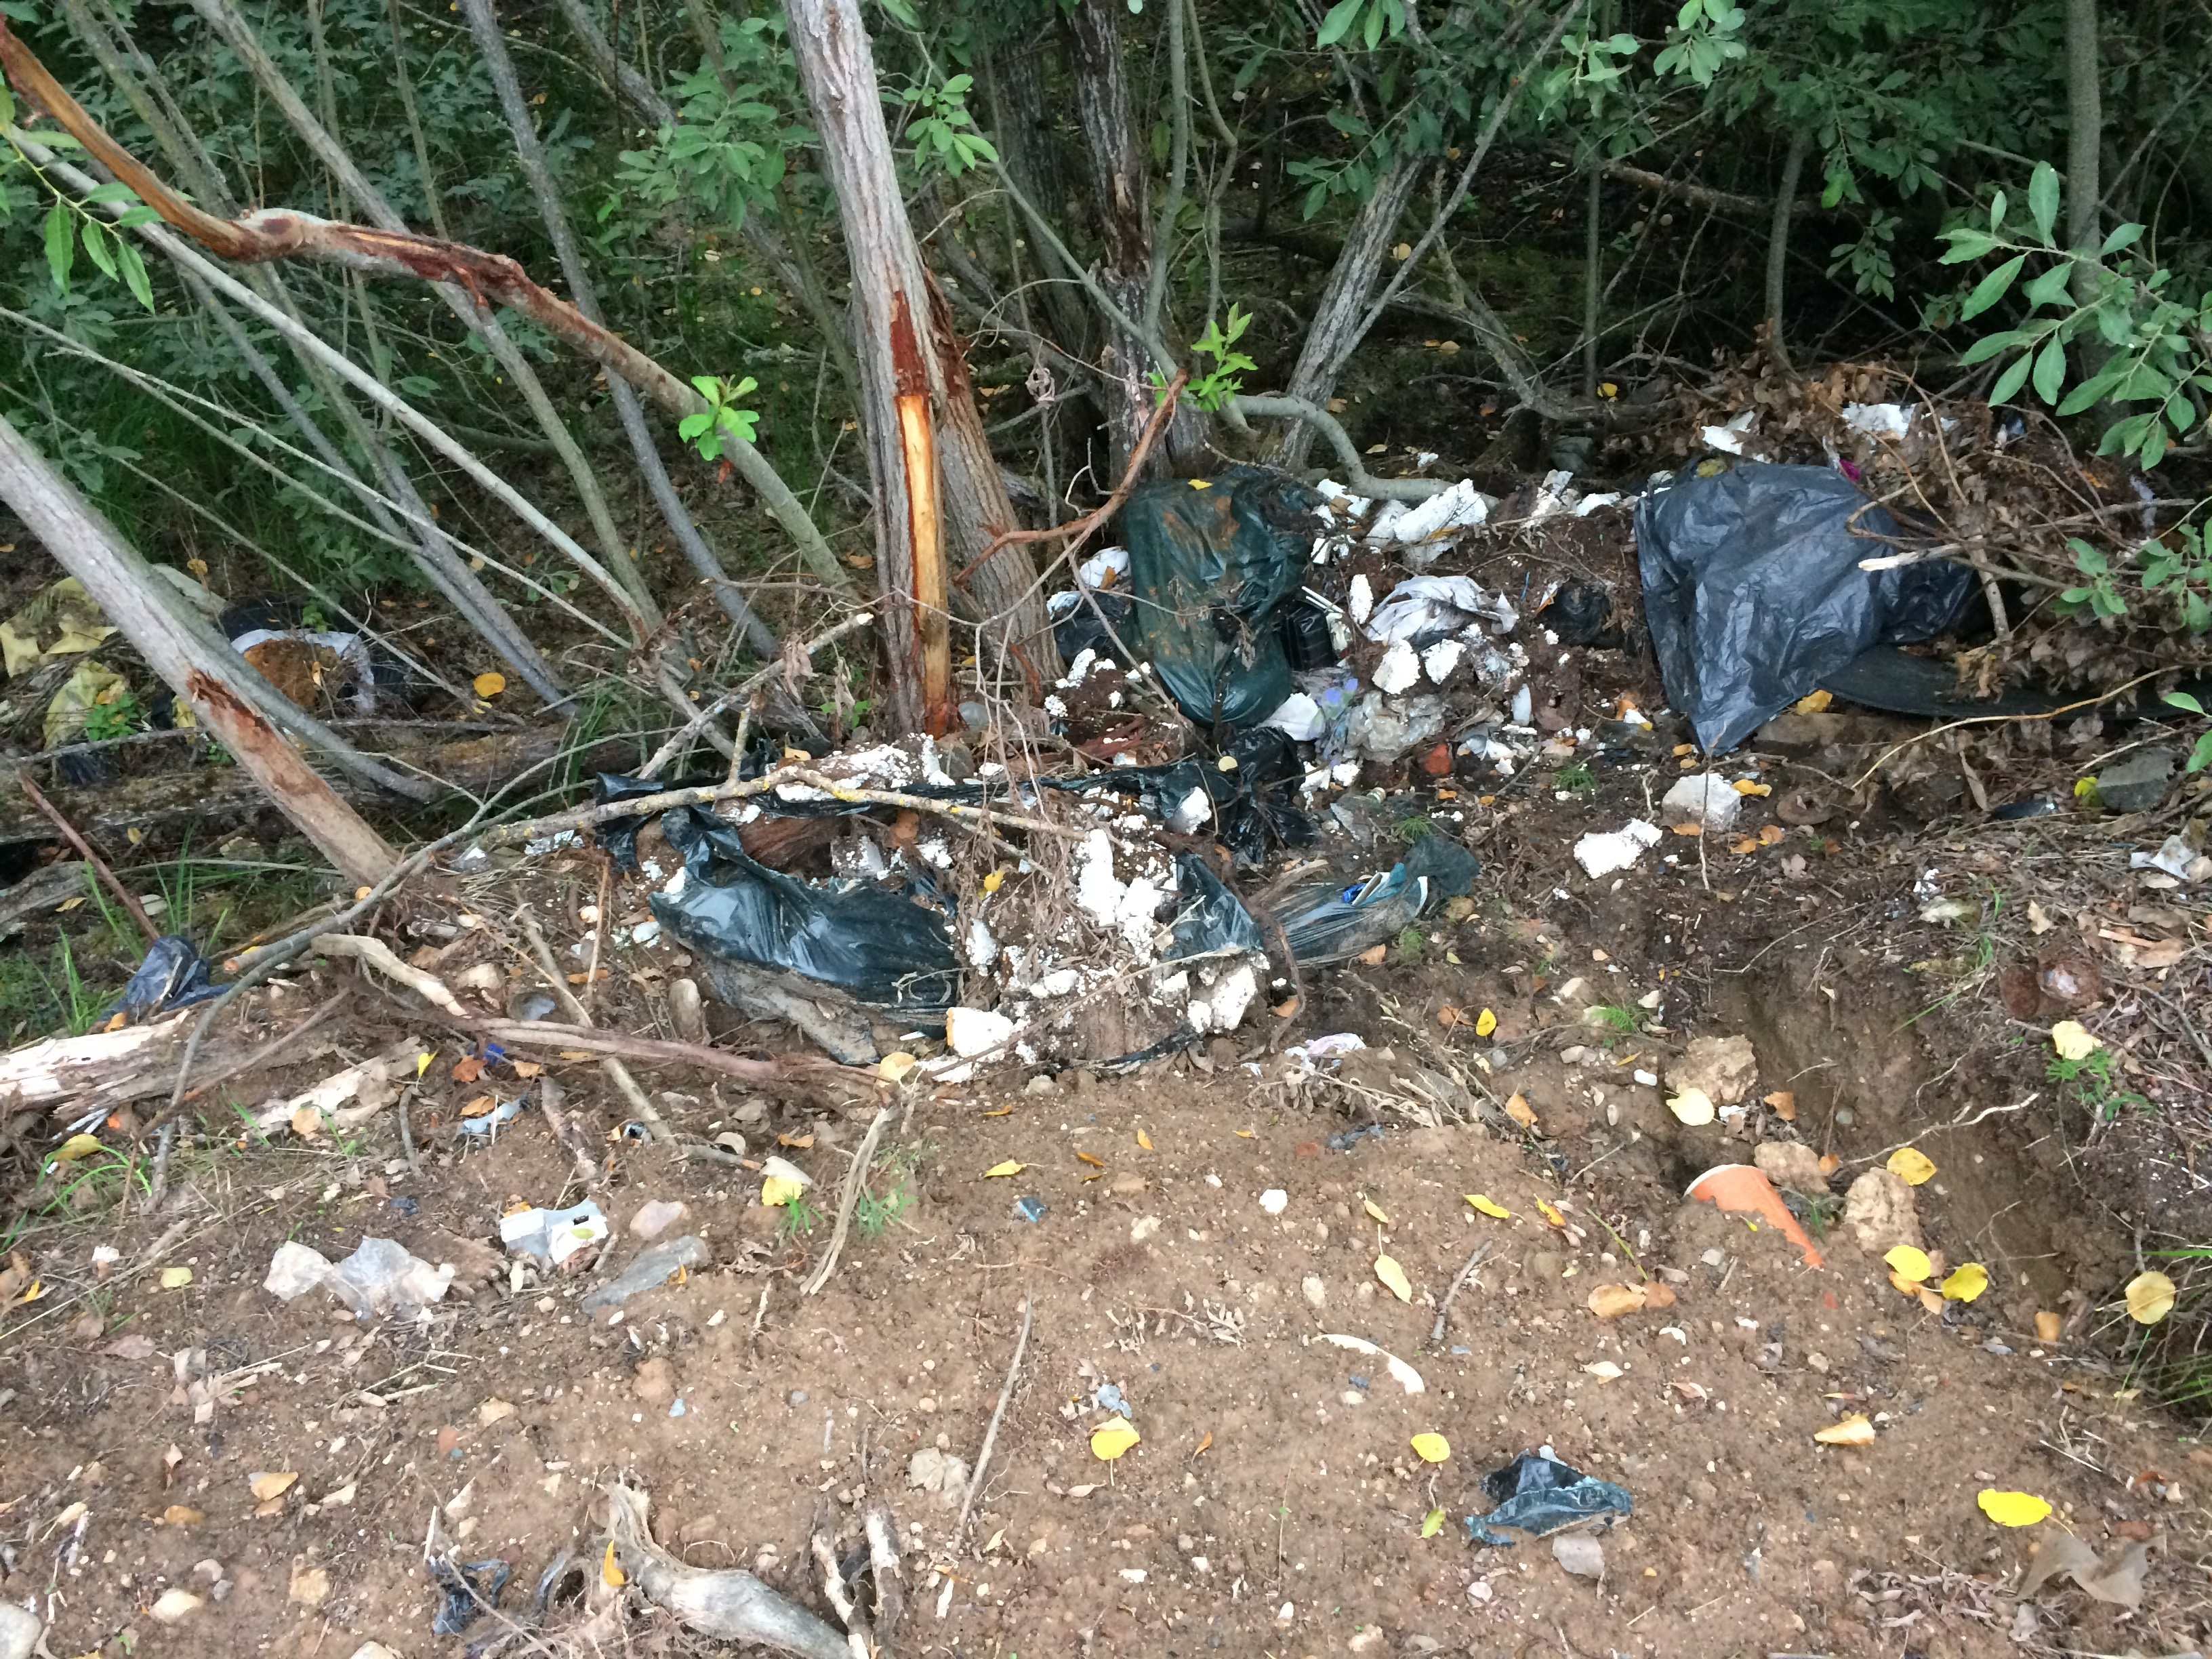trash: (218, 293, 2081, 1300), (444, 1488, 993, 1631), (1409, 1420, 1721, 1598)
